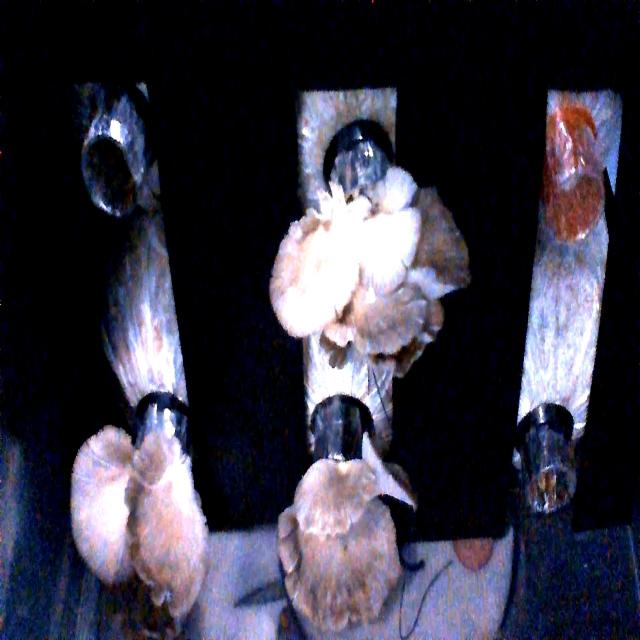big: (268, 160, 470, 383), (69, 390, 225, 631), (296, 461, 430, 618)
nfound: (69, 88, 171, 250), (542, 113, 609, 271), (512, 396, 574, 531)
